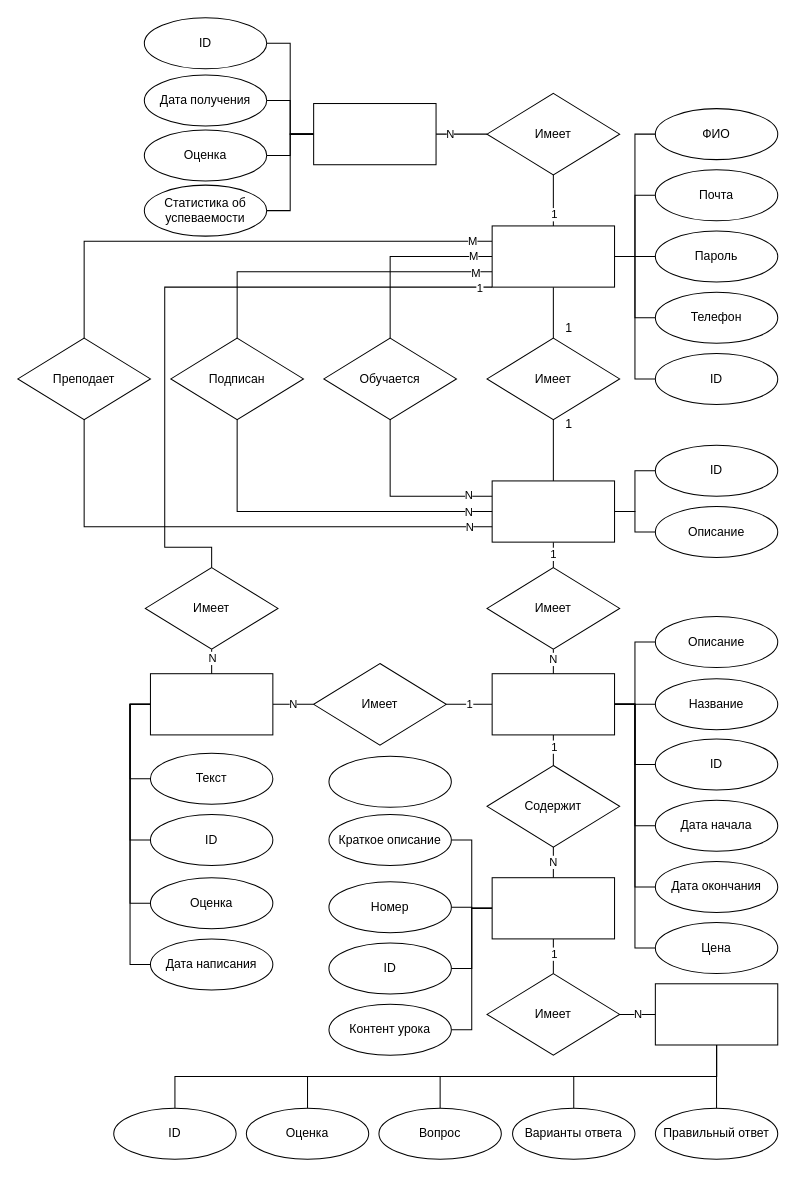
Image size: 796x1177. Some labels were removed from this diagram. Each missing label, with the centre of its shape:
Курс: (x=553, y=704)
Отзыв: (x=211, y=704)
Пользователь: (x=553, y=256)
Сертификат: (x=374, y=134)
Тест: (x=716, y=1014)
Тип урока: (x=389, y=781)
Урок: (x=553, y=908)
Школа: (x=553, y=511)
